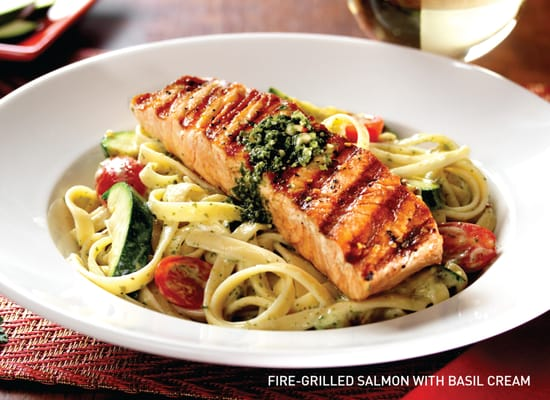curry: (229, 105, 331, 223)
